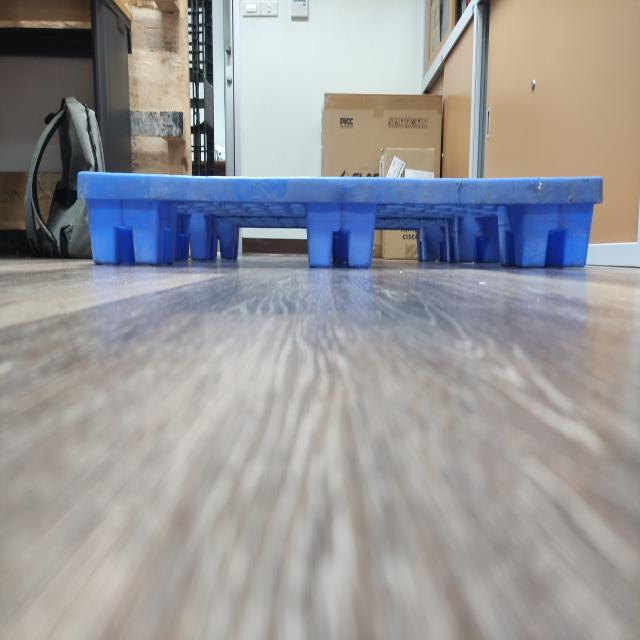block: (83, 197, 164, 268), (306, 202, 376, 271), (522, 206, 594, 272)
front: (76, 169, 604, 277)
